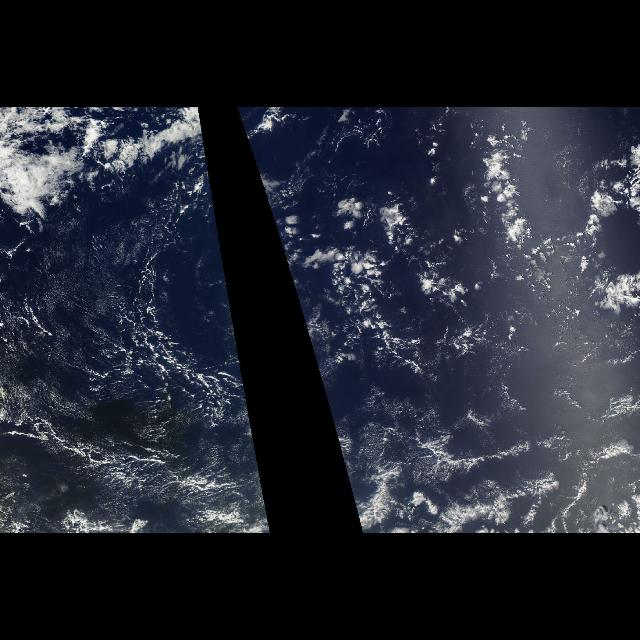Sugar: (307, 332, 639, 522), (4, 332, 270, 522)
